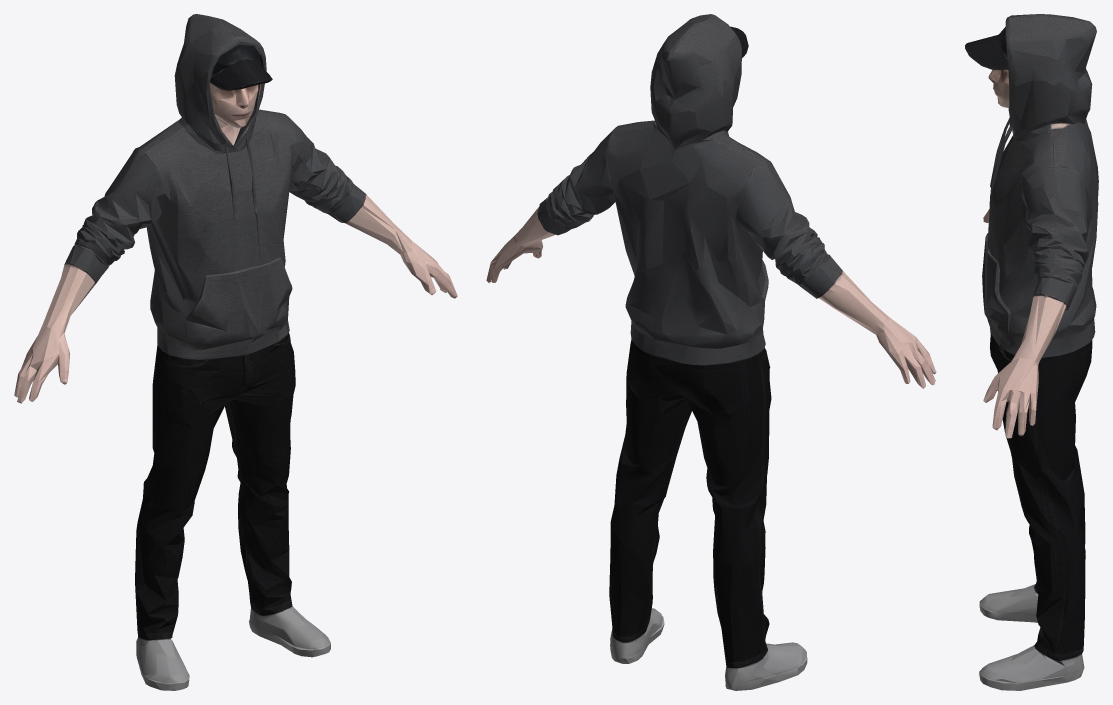
File: image3d.glb
3 views of the same model, side by side, from view 1: azimuth 30°, elevation 25°; view 2: azimuth 150°, elevation 25°; view 3: azimuth 270°, elevation 25° (orthographic).
Size of the model in its own units: 1.38 by 1.9 by 0.364.
1 material, 1 textured.
